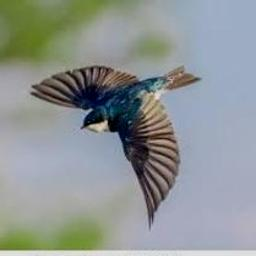Swallow: (29, 63, 202, 231)
